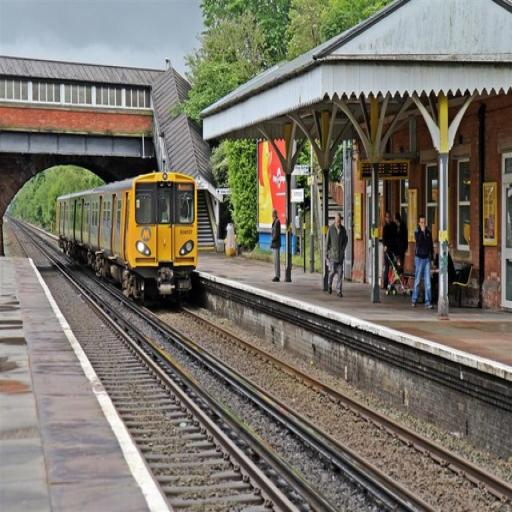platform_edge: (22, 265, 174, 512), (233, 287, 512, 407)
